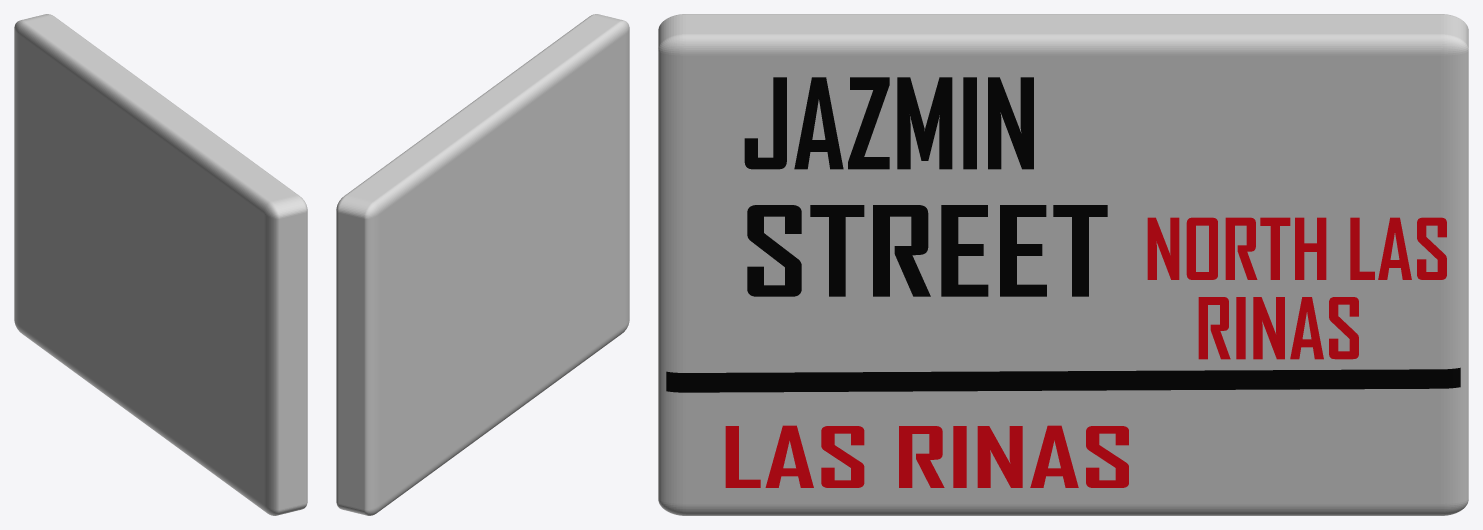
File: uk_styled_street_sign_13.fbx
3 renders of one model, left to right at view 1: azimuth 30°, elevation 25°; view 2: azimuth 150°, elevation 25°; view 3: azimuth 270°, elevation 25°, orthographic. The views are drawn at different scales.
Visible parts, largest first — view 1: Cube; view 2: Cube; view 3: Cube, Text.001, Text, Text.002, Text.003, Text.004.
Boxes of the visible parts, <box> form: Cube: <box>14,14,307,515</box>; Cube: <box>336,14,629,515</box>; Cube: <box>658,14,1468,515</box>; Text.001: <box>747,205,1107,296</box>; Text: <box>744,77,1033,169</box>; Text.002: <box>725,425,1128,487</box>; Text.003: <box>1147,217,1446,279</box>; Text.004: <box>1198,297,1358,359</box>.
Bounding box in the file's own units: 1.63 × 11.91 × 18.18.
